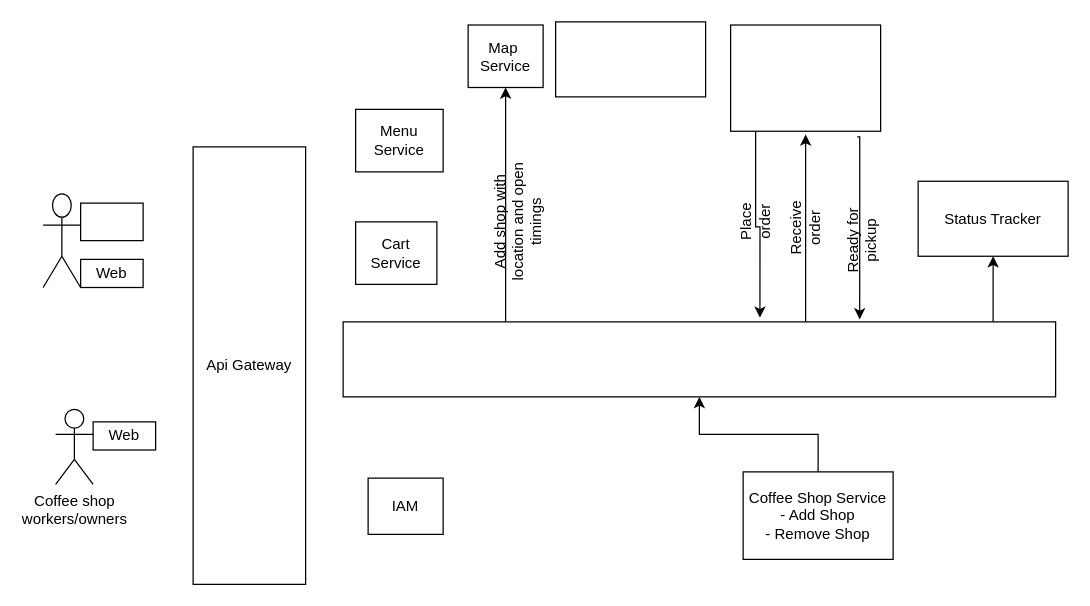
This 1090x606 diagram has some shape labels left out. Here are the shapes that lost their labels. From the top down, the box of each, then its label:
(554, 21, 706, 97): Payment Service - Receive Payment
(729, 24, 881, 131): Order Service
(42, 192, 81, 288): Customer
(79, 202, 143, 241): Mobile
(342, 321, 1056, 397): Messaging
